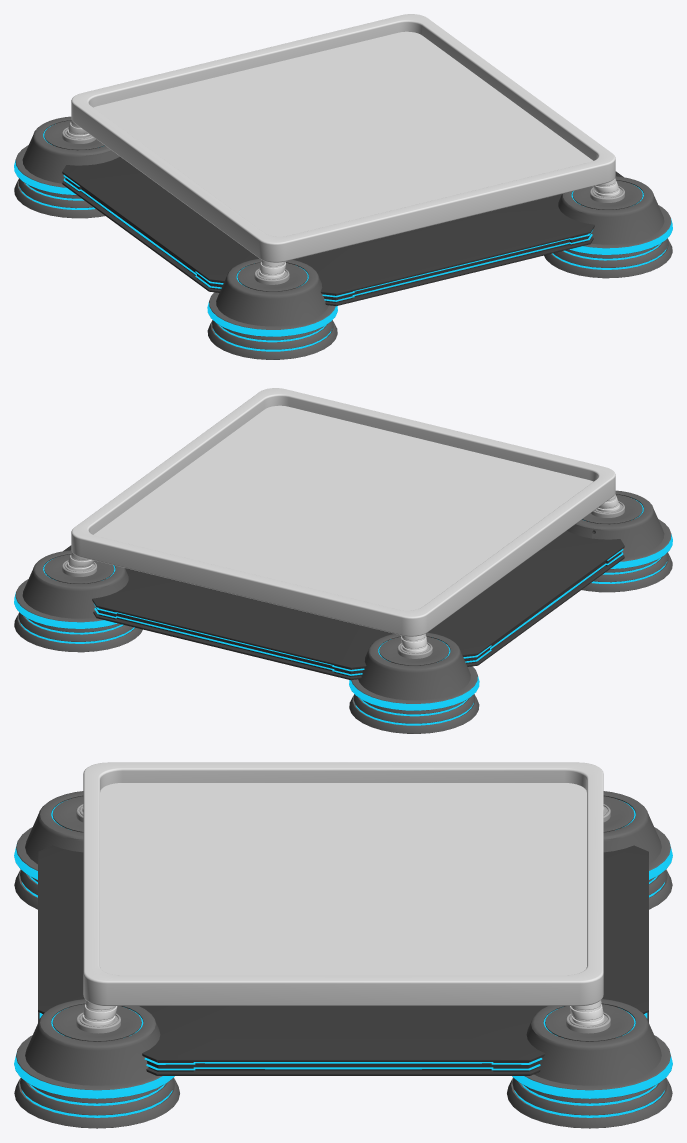
Rendered from Jumppad.glb.
The picture shows the model from 3 angles, top to bottom: view 1: azimuth 30°, elevation 25°; view 2: azimuth 150°, elevation 25°; view 3: azimuth 270°, elevation 25°; orthographic projection. The views are drawn at different scales.
Visible parts, largest first — view 1: Plane; view 2: Plane; view 3: Plane.
Part boxes in pixels (<box>): Plane: <box>14,14,672,359</box>; Plane: <box>14,388,672,733</box>; Plane: <box>14,762,672,1128</box>.
Bounding box in the file's own units: 2.16 × 0.4252 × 2.16.
